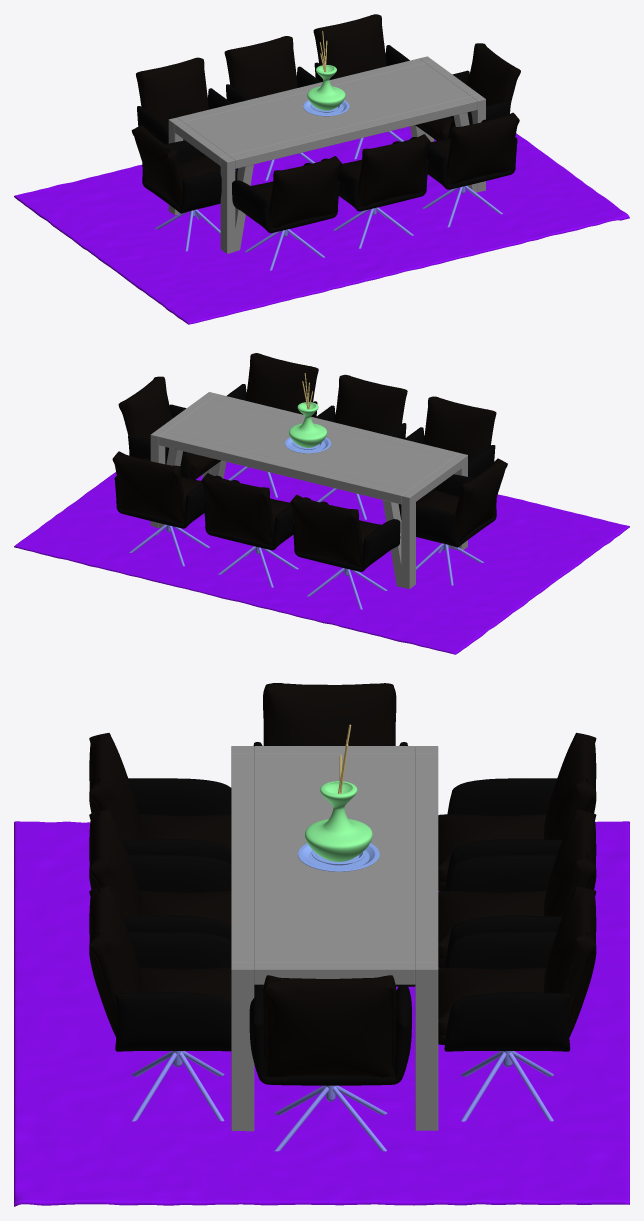
The model's file is Table and Chairs.fbx.
3 views of the same model, one above another, from view 1: azimuth 30°, elevation 25°; view 2: azimuth 150°, elevation 25°; view 3: azimuth 270°, elevation 25° (orthographic). The views are drawn at different scales.
Parts seen in each view (by area): view 1: Box028, Object002, Object026, Object011, Capsule001, Line006; view 2: Box028, Object002, Object026, Object011, Capsule001, Line006; view 3: Box028, Object002, Object026, Object011, Capsule001, Line006, Line003.
Boxes of the visible parts, <box> form: Box028: <box>14,126,629,324</box>; Object002: <box>131,14,520,228</box>; Object026: <box>168,56,485,253</box>; Object011: <box>137,45,517,232</box>; Capsule001: <box>155,131,502,270</box>; Line006: <box>307,65,345,110</box>; Box028: <box>14,462,629,654</box>; Object002: <box>112,353,507,567</box>; Object026: <box>150,392,467,589</box>; Object011: <box>114,384,496,571</box>; Capsule001: <box>129,466,483,609</box>; Line006: <box>289,402,327,447</box>; Box028: <box>14,821,629,1206</box>; Object002: <box>89,683,596,1077</box>; Object026: <box>231,746,438,1131</box>; Object011: <box>115,742,570,1085</box>; Capsule001: <box>131,1051,553,1151</box>; Line006: <box>305,781,372,861</box>; Line003: <box>298,843,379,871</box>.
Bounding box in the file's own units: 392 × 144 × 268.
